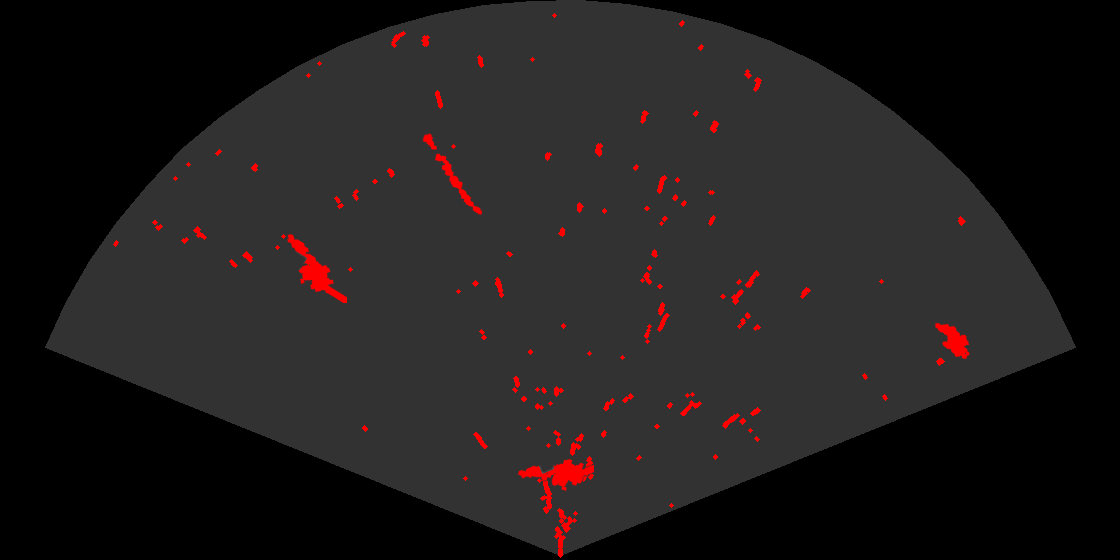AUV: (934, 321, 971, 361)
chain: (421, 132, 484, 216)
frogman: (286, 232, 347, 303), (516, 457, 594, 493)
